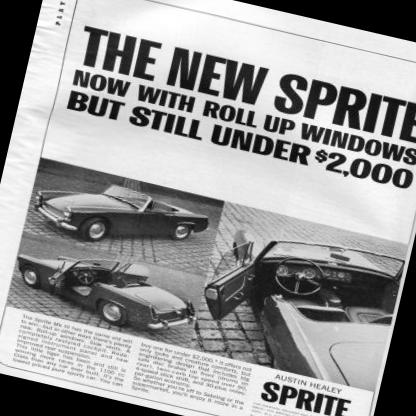car: (198, 209, 413, 402), (11, 231, 212, 354), (27, 148, 226, 265)
